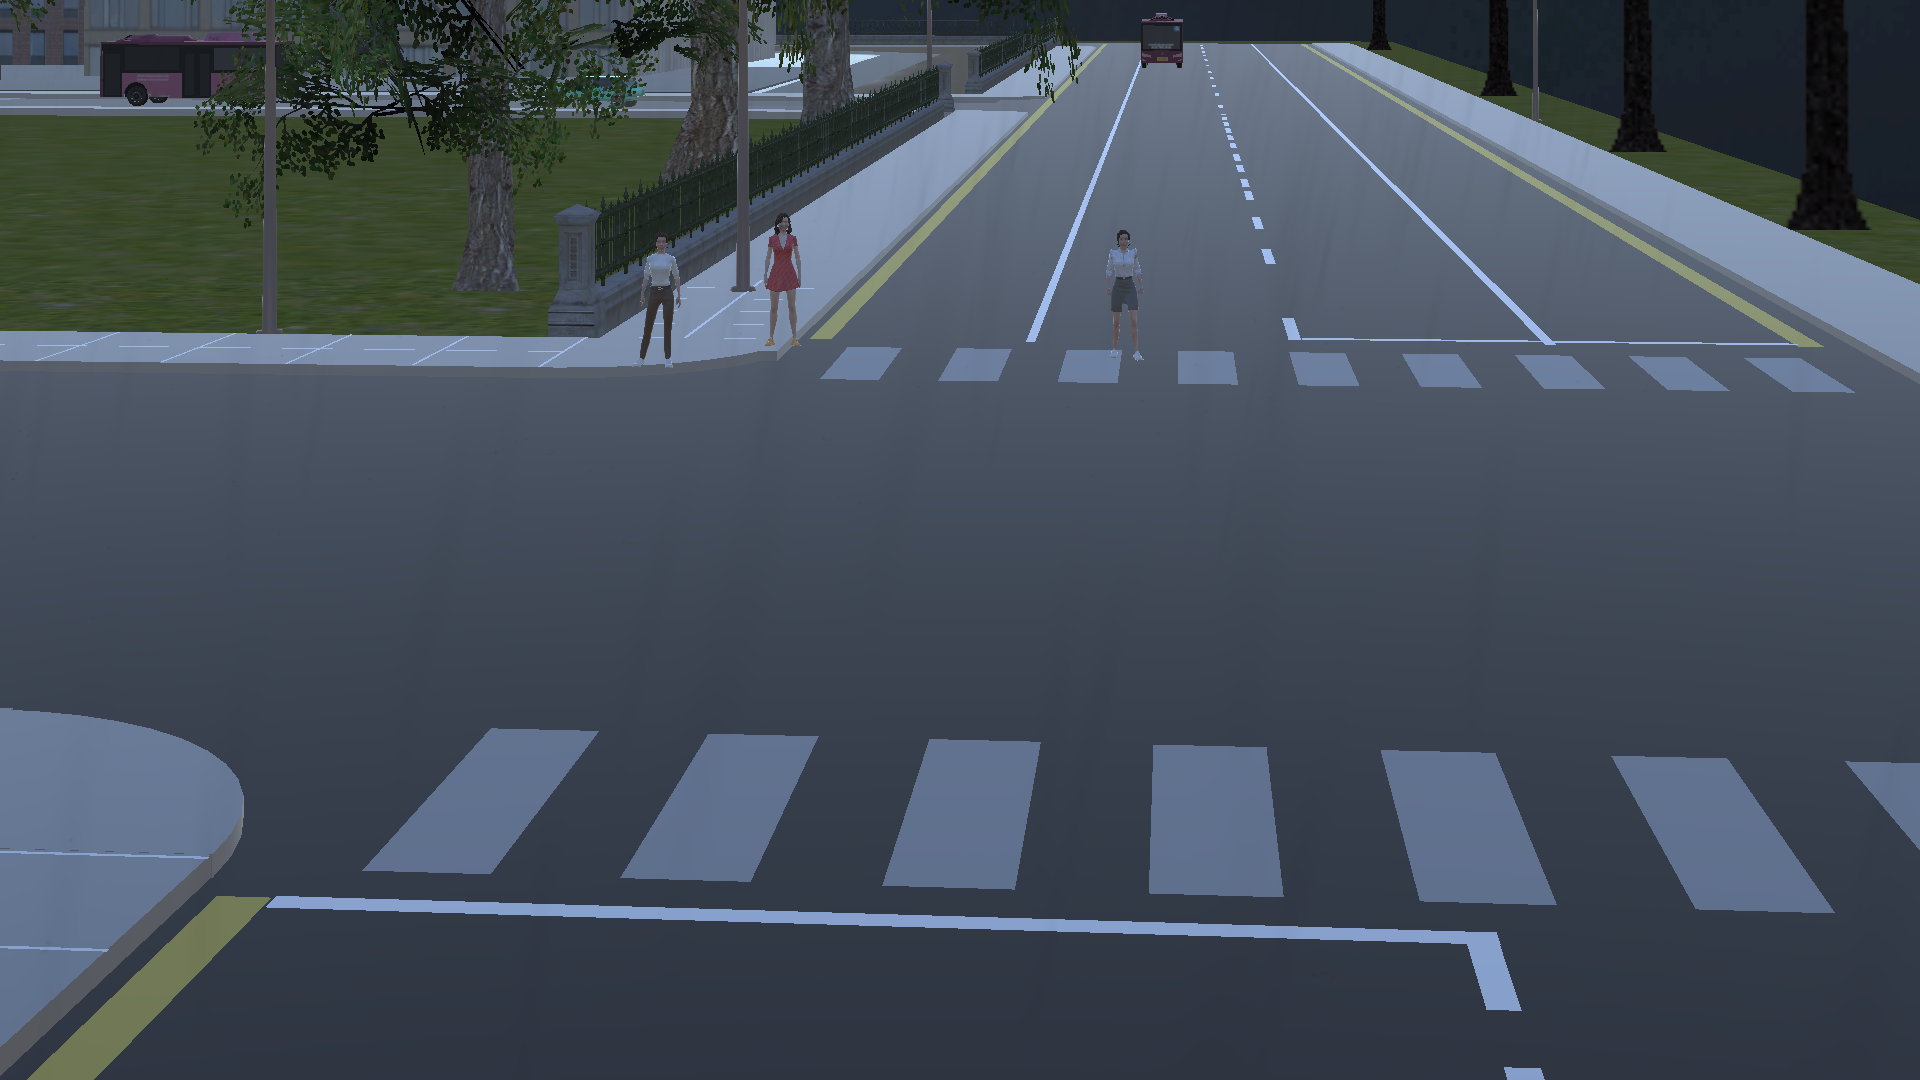pedestrian: (616, 229, 684, 383), (760, 208, 819, 350), (1101, 226, 1153, 368)
